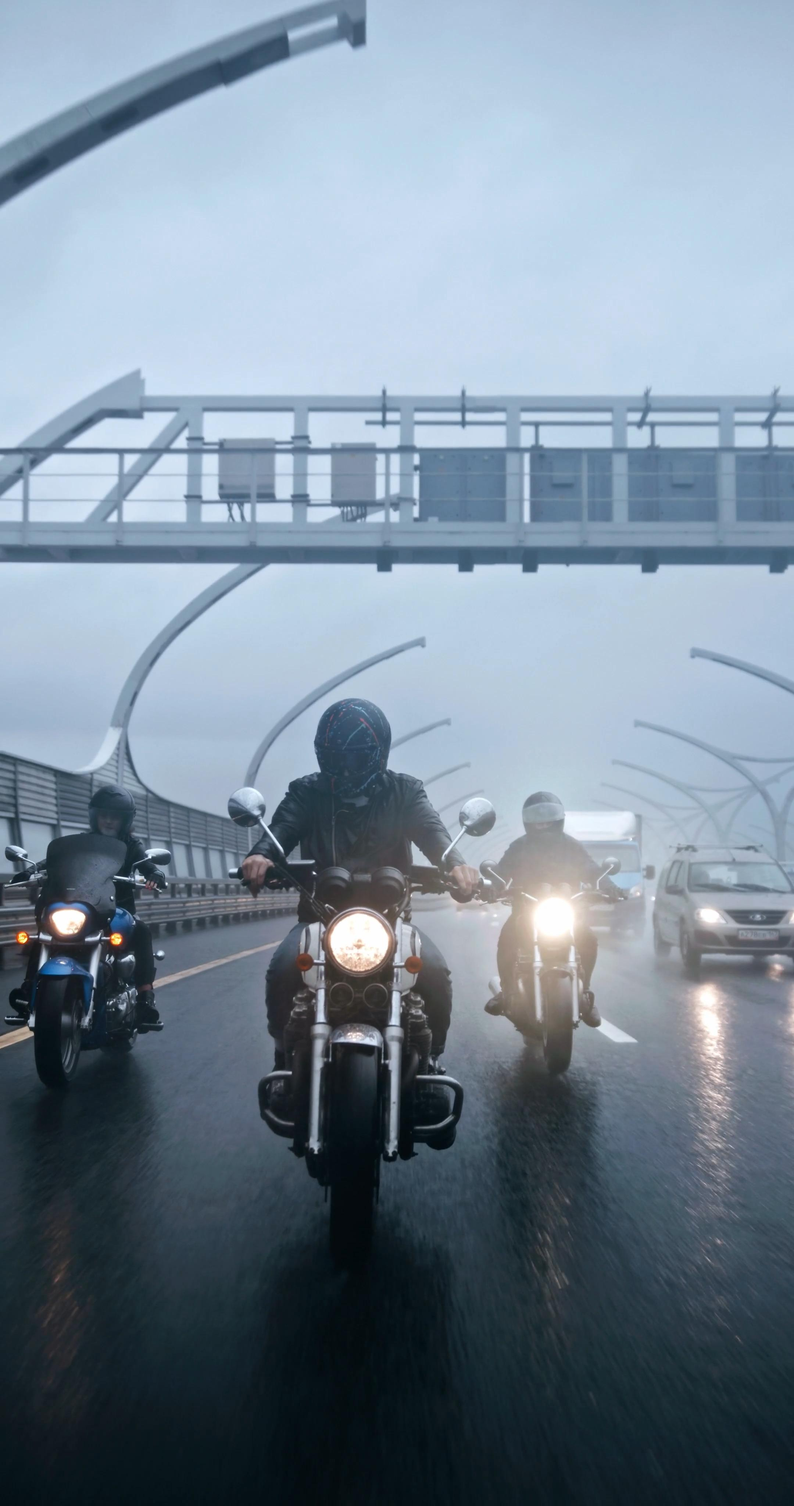driver: (228, 698, 497, 1275), (0, 785, 170, 1090), (478, 791, 632, 1075)
helmet: (313, 698, 392, 800), (87, 785, 137, 839), (522, 791, 565, 844)
